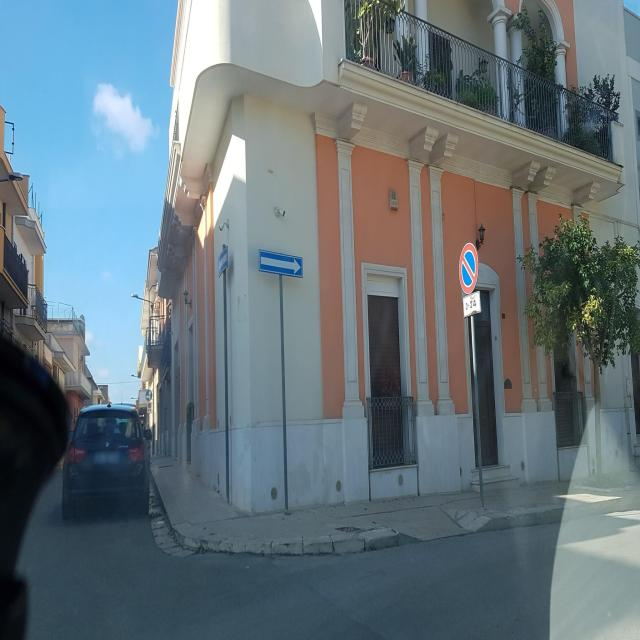forb_stopping: (459, 243, 479, 296)
